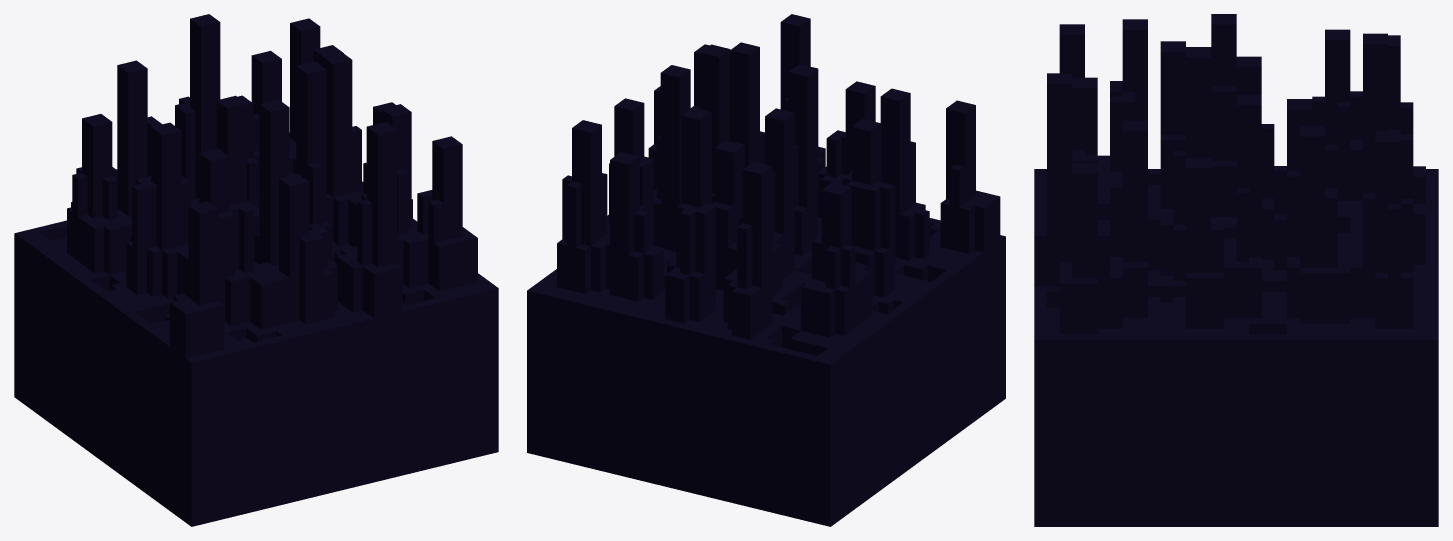
The model's file is FOUNDATION.fbx.
3 renders of one model, left to right at view 1: azimuth 30°, elevation 25°; view 2: azimuth 150°, elevation 25°; view 3: azimuth 270°, elevation 25°, orthographic. The views are drawn at different scales.
Parts seen in each view (by area): view 1: Cube; view 2: Cube; view 3: Cube.
Part boxes in pixels (x1,y1,x2,y2): Cube: (14,14,498,526); Cube: (527,14,1005,526); Cube: (1034,14,1438,526).
Bounding box in the file's own units: 255240 × 285948 × 255240.
